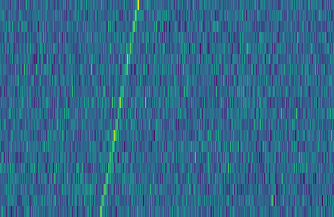signal: (94, 0, 143, 217)
